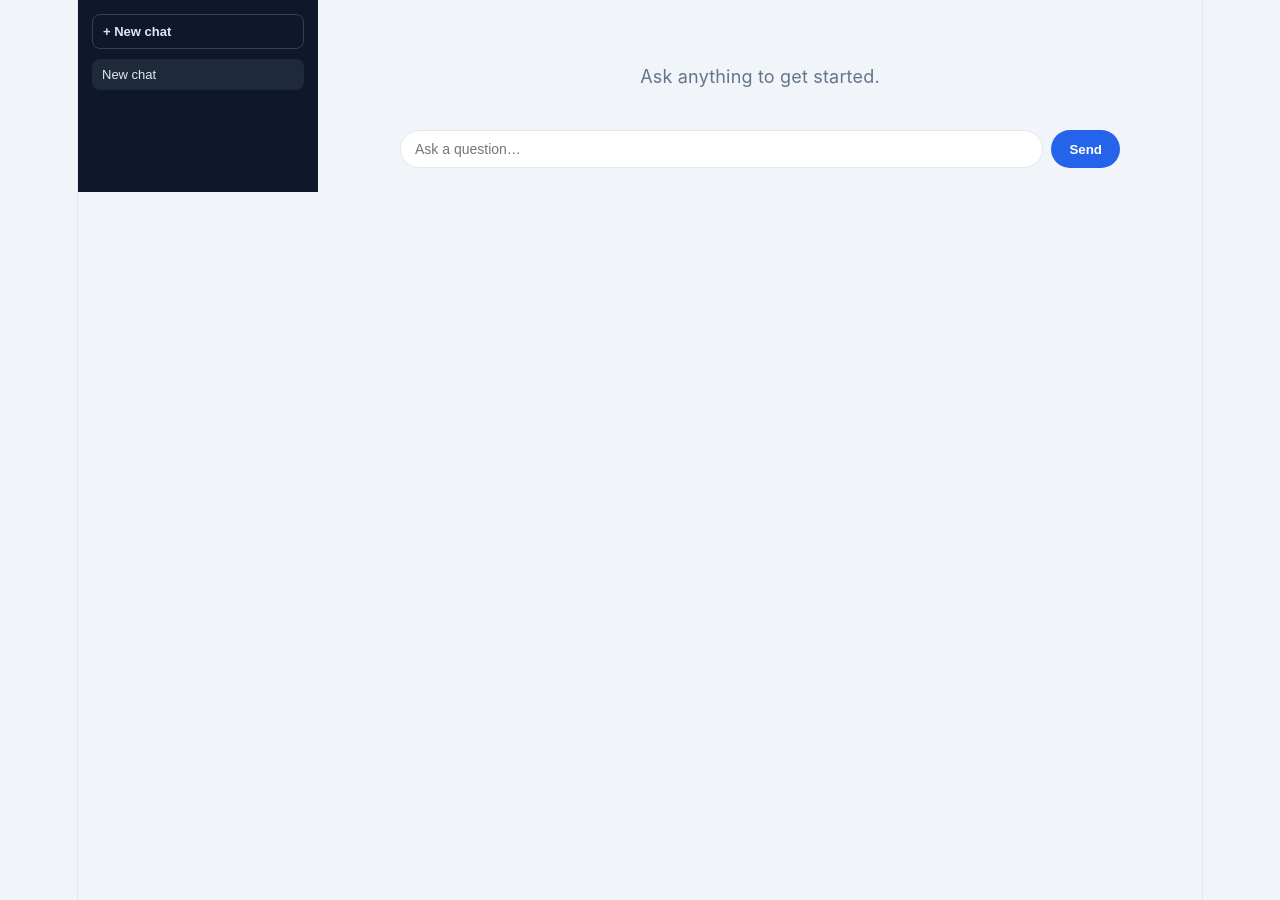
Test case: ChatPage › keeps separate conversations in the sidebar with independent histories
The image size is (1280, 900).
Step 1. Type "first question" into the field named "Chat message" → (722, 149), box left=400, top=130, right=1043, bottom=168
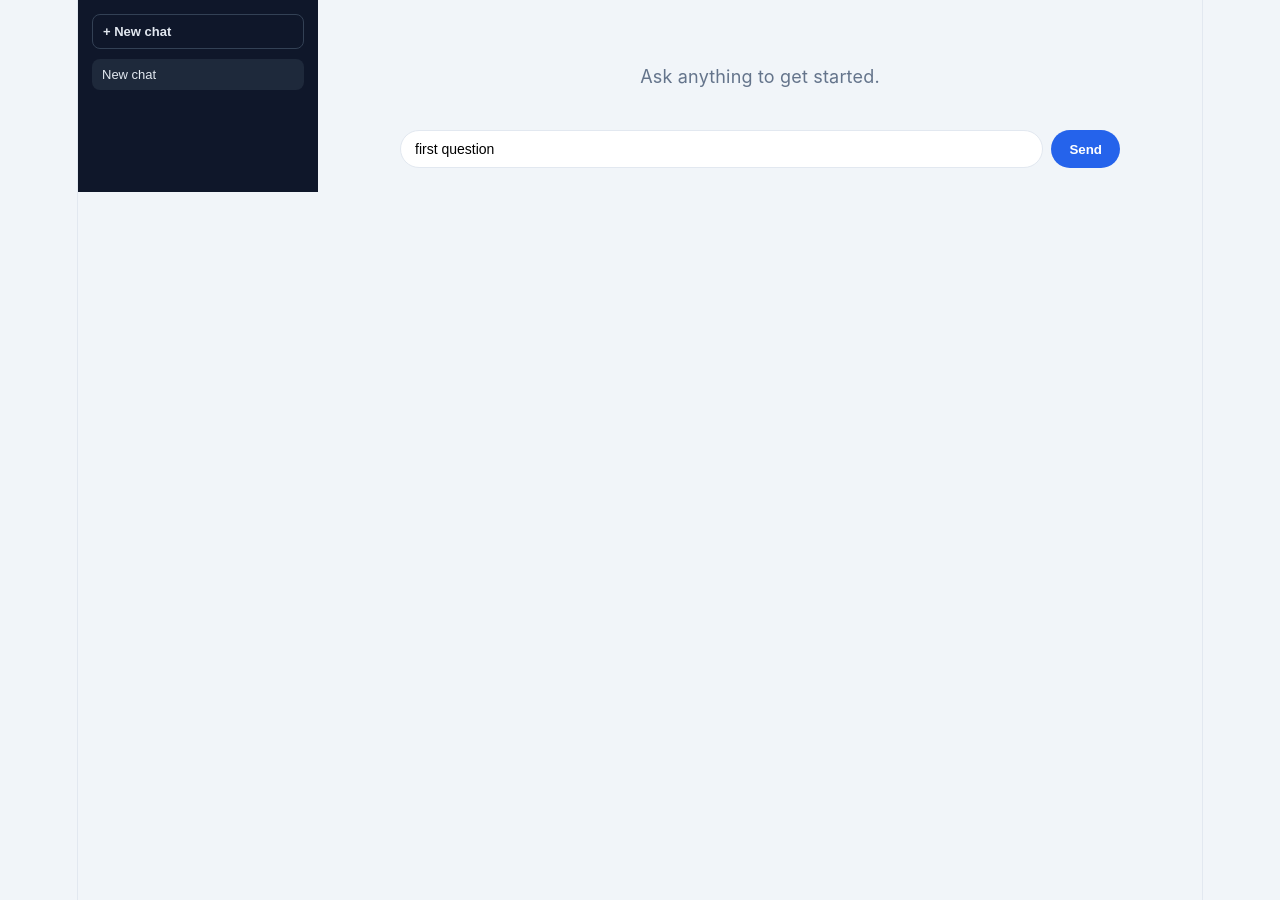
Step 2. Click the button "Send" → (1086, 149), box left=1051, top=130, right=1120, bottom=168
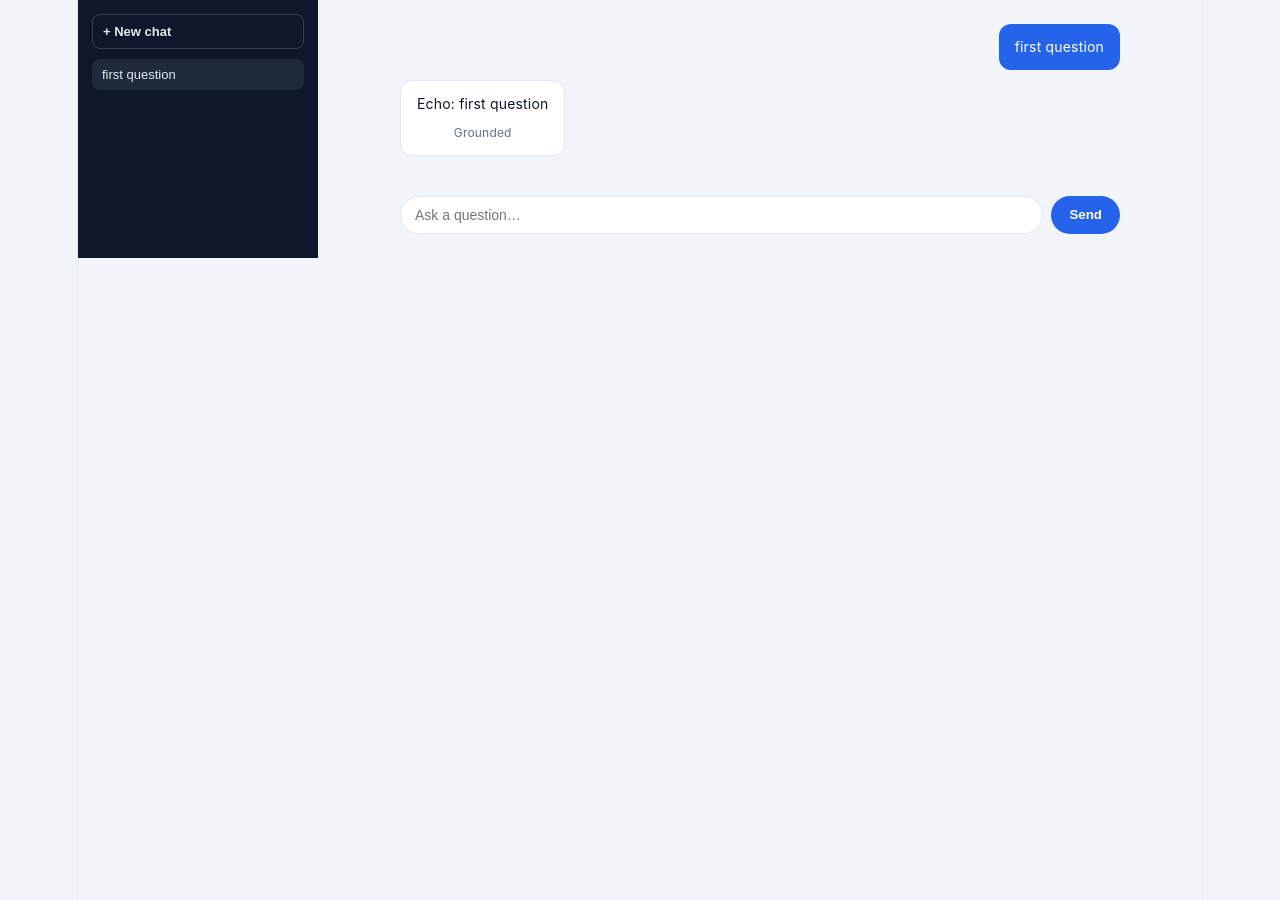
Check: the text "Echo: first question" is shown, box left=417, top=93, right=548, bottom=114
Check: the button "first question" is shown, box left=92, top=59, right=304, bottom=90
Step 3. Click the button "+ New chat" → (198, 32), box left=92, top=14, right=304, bottom=49
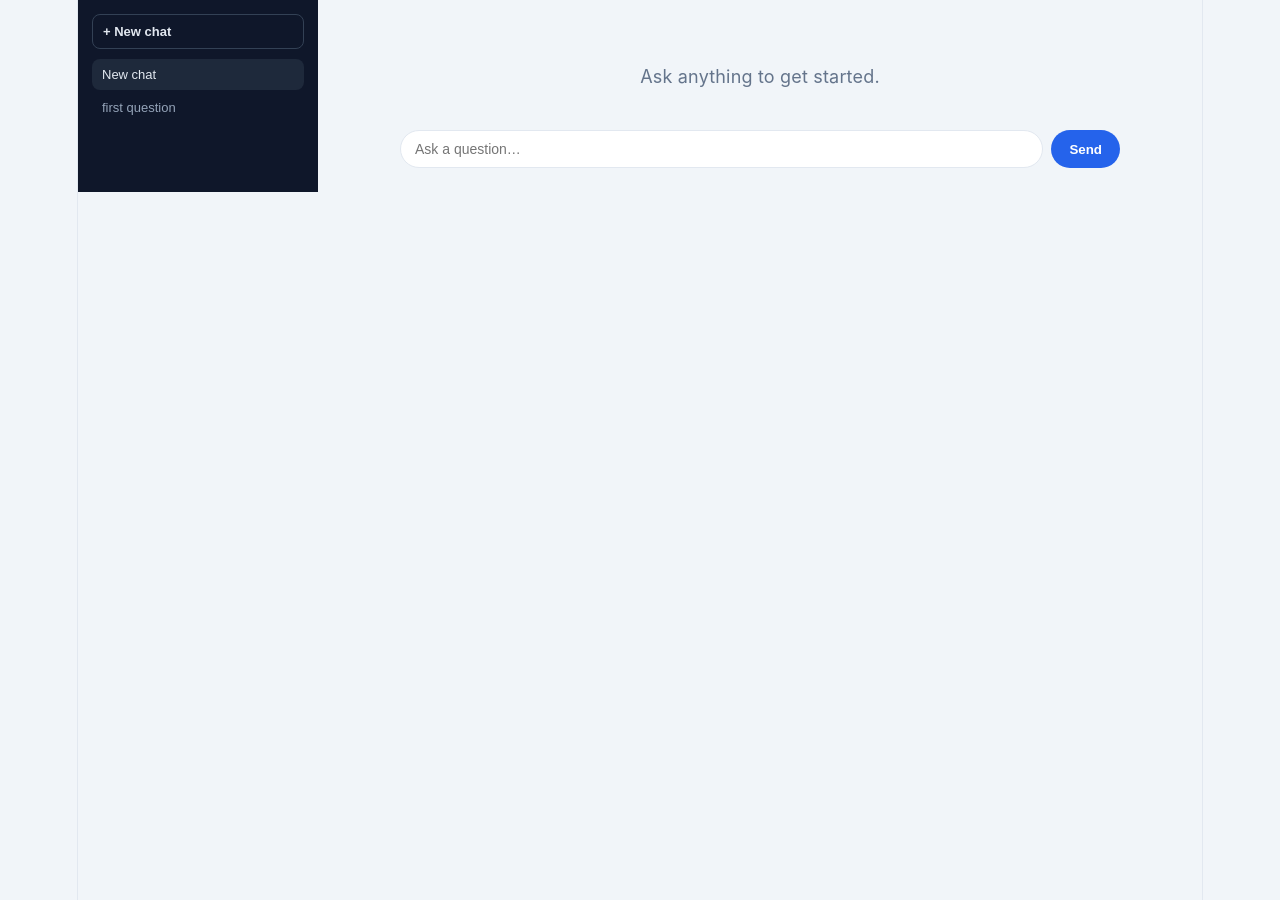
Check: the text "Ask anything to get started." is shown, box left=640, top=66, right=880, bottom=87
Check: the text "Echo: first question" is gone
Step 4. Type "second question" into the field named "Chat message" → (722, 149), box left=400, top=130, right=1043, bottom=168
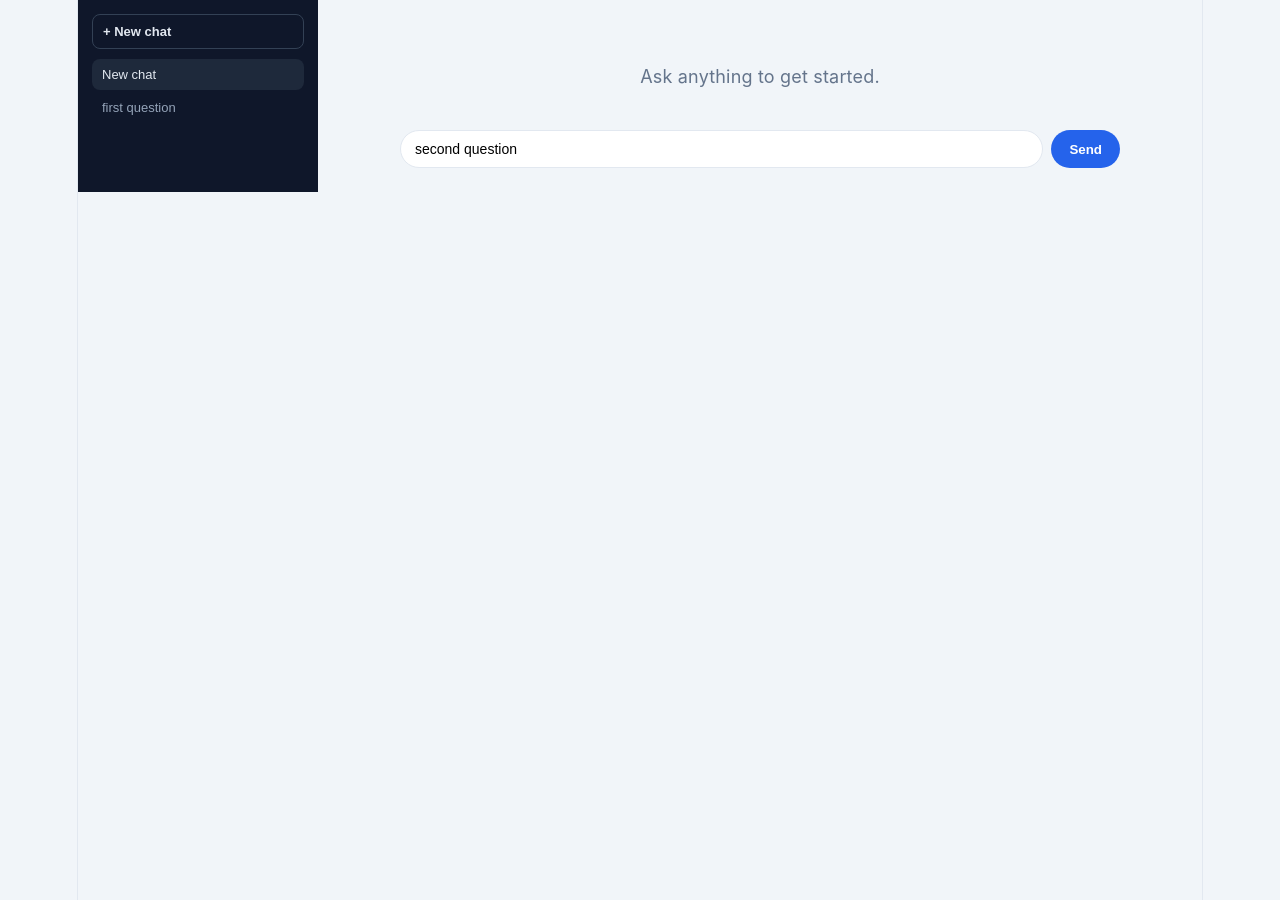
Step 5. Click the button "Send" → (1086, 149), box left=1051, top=130, right=1120, bottom=168
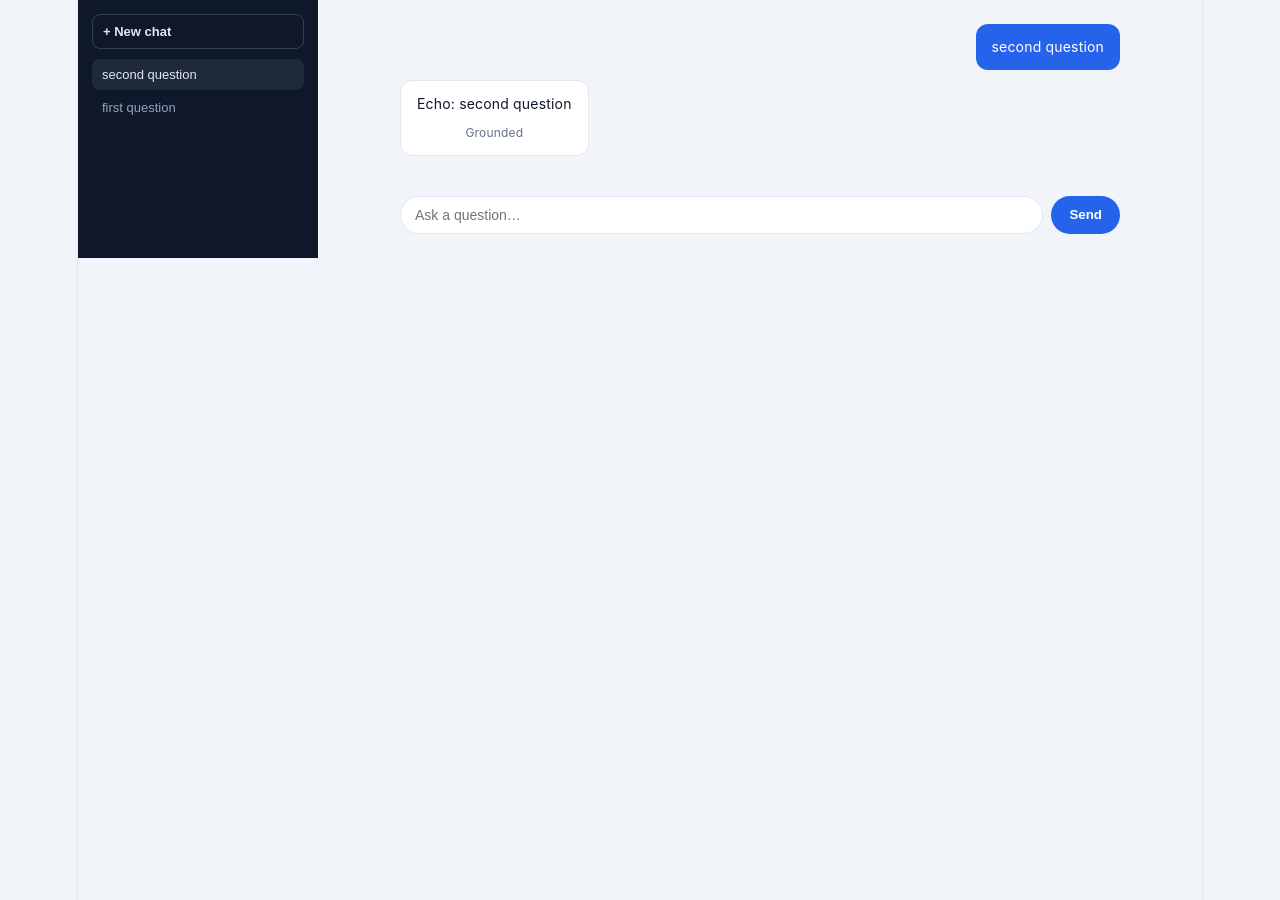
Check: the text "Echo: second question" is shown, box left=417, top=93, right=572, bottom=114
Step 6. Click the button "first question" → (198, 108), box left=92, top=92, right=304, bottom=123
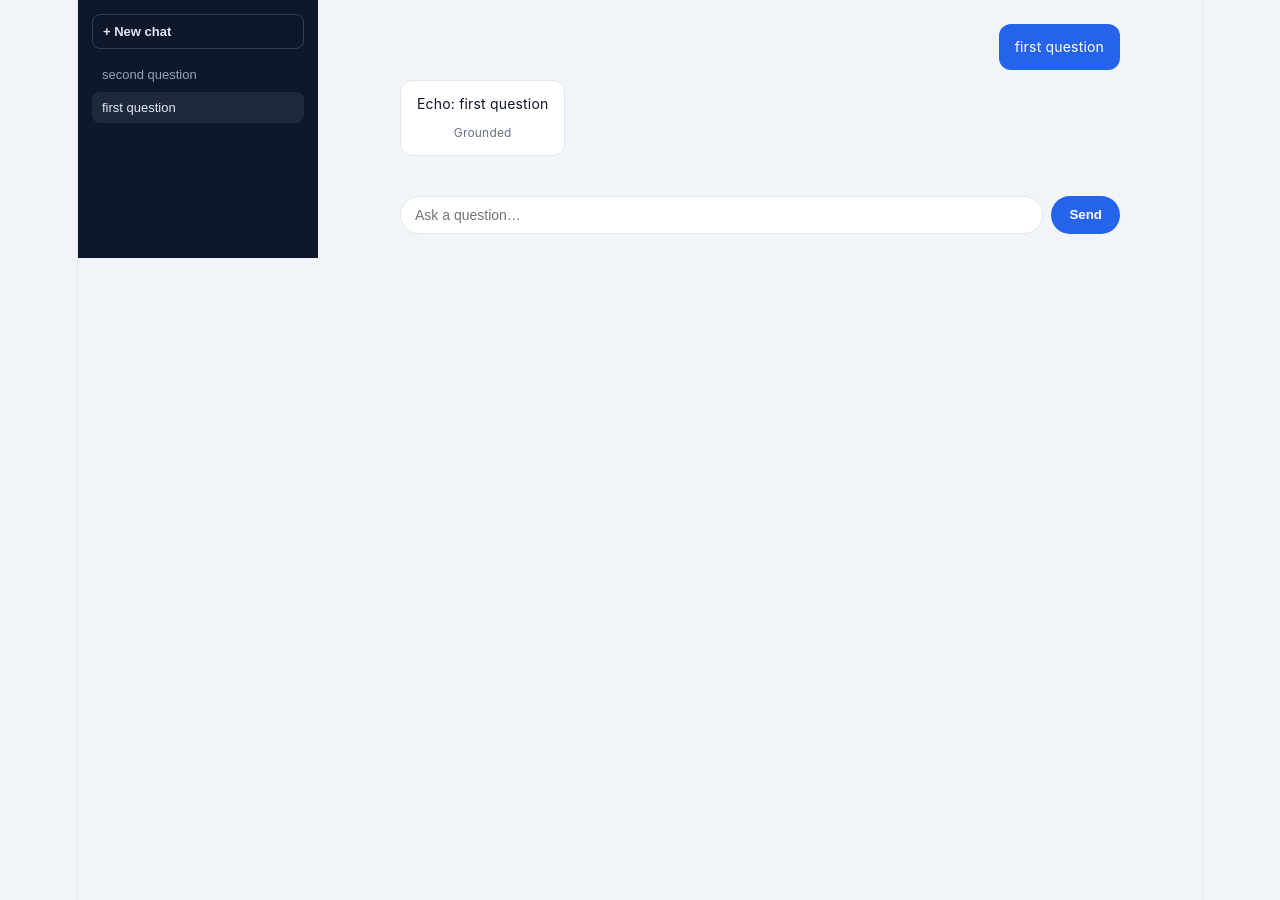
Check: the text "Echo: first question" is shown, box left=417, top=93, right=548, bottom=114
Check: the text "Echo: second question" is gone
